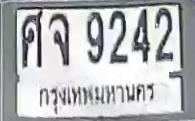2: (154, 7, 173, 62), (108, 10, 127, 63)
4: (131, 9, 150, 63)
9: (86, 11, 104, 63)
A08: (48, 12, 69, 66)
A38: (20, 10, 43, 68)
BKK: (35, 80, 157, 115)
